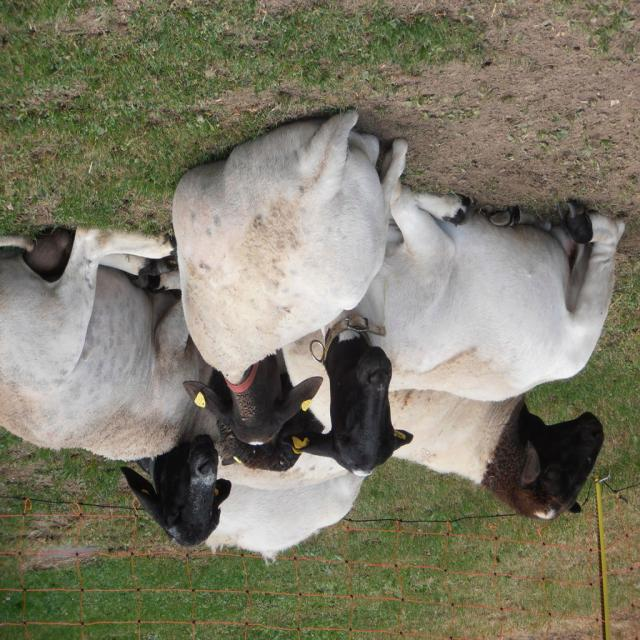Goat: (282, 162, 626, 482), (171, 109, 410, 449), (1, 224, 323, 475), (121, 437, 366, 566)
